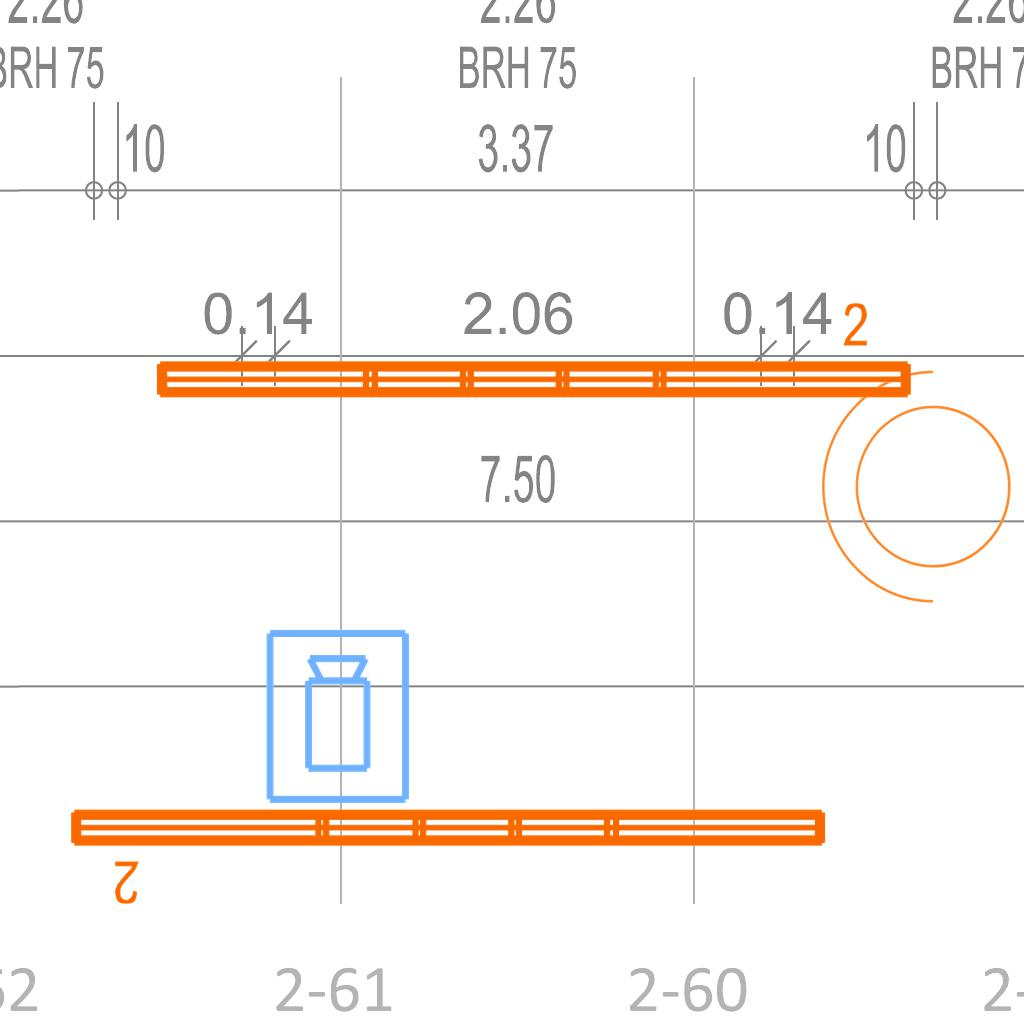Ambulanz_Pendelleuchte_LED: (62, 797, 836, 909), (146, 298, 920, 410)
KFO_Kamera_mit_Festobjektiv: (262, 626, 416, 808)
Scheinwerfer_fuer_Alarmbeleuchtung: (811, 361, 1024, 625)
